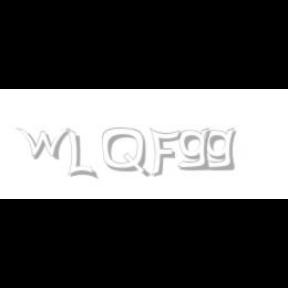F: (149, 128, 181, 178)
L: (67, 128, 95, 180)
Q: (102, 128, 148, 178)
g: (178, 128, 215, 171), (204, 128, 240, 171)
w: (16, 128, 74, 160)
